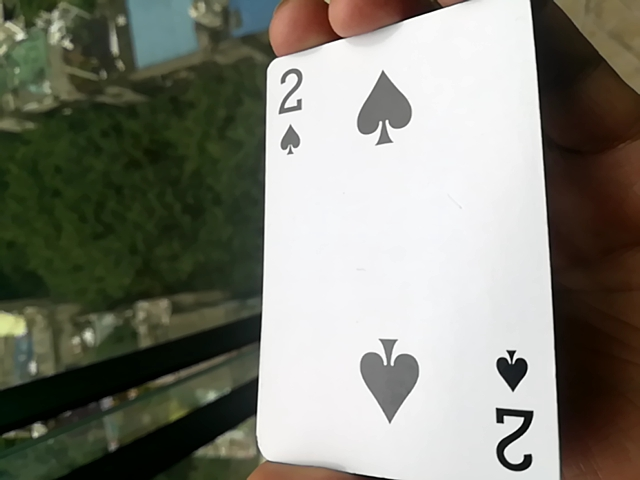ht 2: (251, 13, 572, 477)
